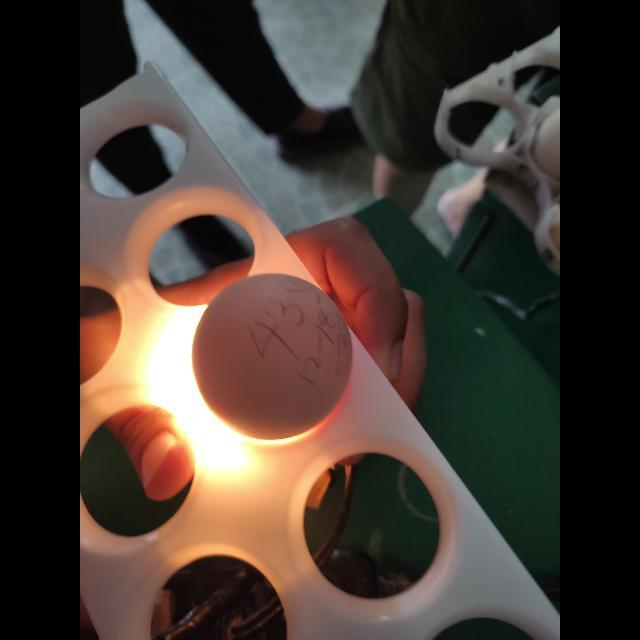Fertile: (190, 272, 352, 446)
